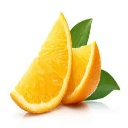orange: (9, 10, 73, 116)
